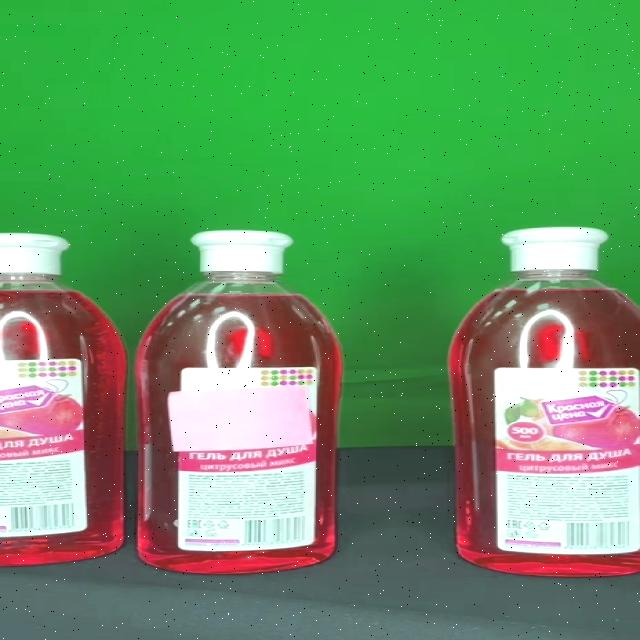Bottle: (133, 228, 345, 574), (449, 227, 640, 576)
Cap: (502, 227, 607, 271), (192, 230, 294, 274)
